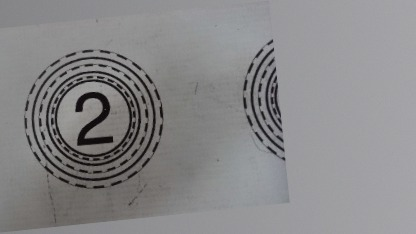2r: (14, 42, 170, 196)
